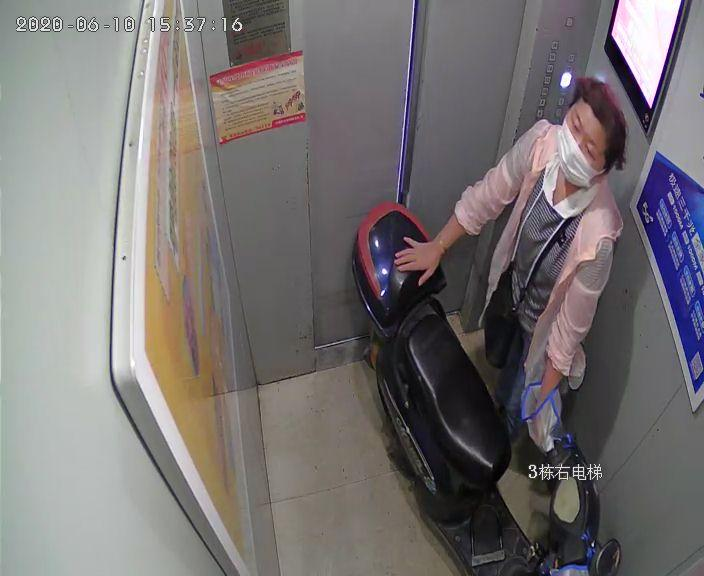Electric-bicycle: (350, 198, 619, 573)
